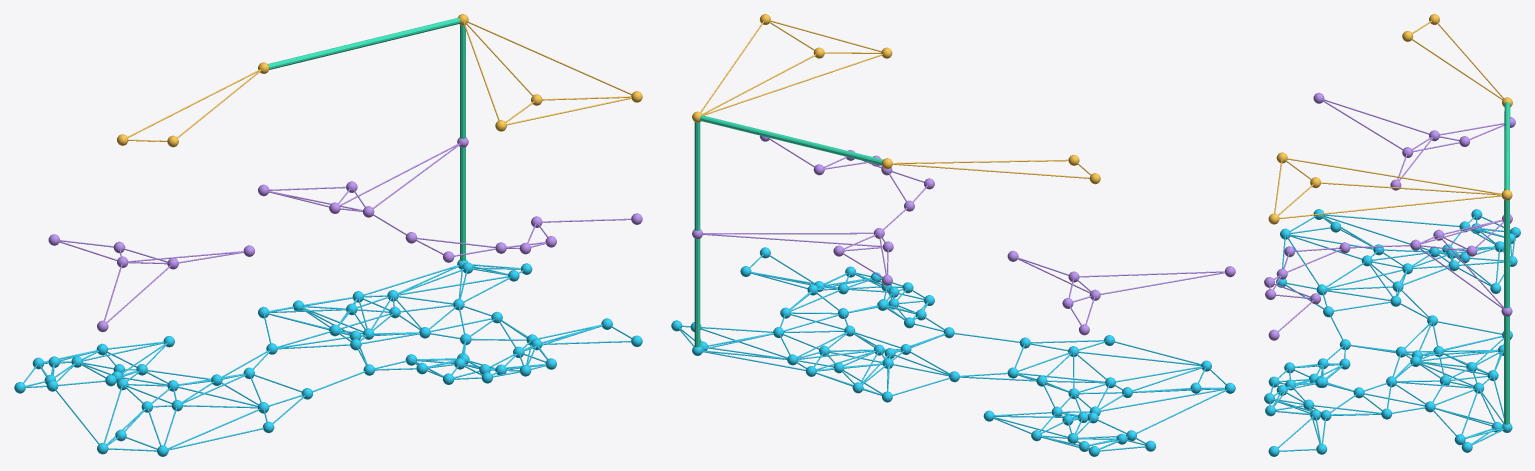
Rendered from hnsw.glb.
3 views of the same model, side by side, from view 1: azimuth 30°, elevation 25°; view 2: azimuth 150°, elevation 25°; view 3: azimuth 270°, elevation 25° (orthographic). The views are drawn at different scales.
Parts seen in each view (by area): view 1: Search trace, Search trace.001, Search trace.002; view 2: Search trace, Search trace.001, Search trace.002; view 3: Search trace.001, Search trace.002, Search trace, Neighbor edge.222, Neighbor edge.220, Neighbor edge.221, Neighbor edge.140.
Boxes of the visible parts, x1,y1,x2,y2 form: Search trace: [268, 18, 460, 69]; Search trace.001: [460, 25, 465, 138]; Search trace.002: [460, 147, 465, 261]; Search trace: [700, 115, 883, 165]; Search trace.001: [694, 122, 700, 230]; Search trace.002: [694, 239, 700, 347]; Search trace.001: [1504, 200, 1509, 308]; Search trace.002: [1504, 316, 1509, 424]; Search trace: [1504, 102, 1510, 190]; Neighbor edge.222: [1279, 195, 1501, 218]; Neighbor edge.220: [1287, 158, 1501, 193]; Neighbor edge.221: [1320, 182, 1501, 195]; Neighbor edge.140: [1324, 214, 1459, 226].
Bounding box in the file's own units: 6.69 × 3.13 × 3.01.
